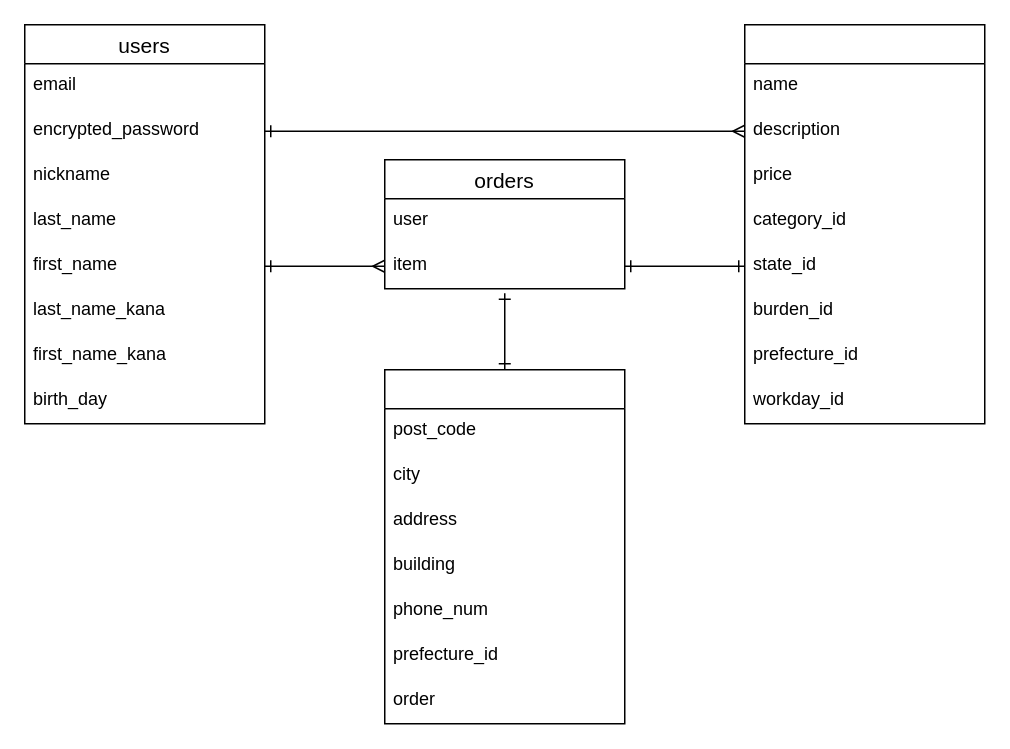
The diagram is 1010 pixels wide and 749 high, and some of its shapes have lost their labels. Each missing label, with the box of its shape:
addresses: (383, 368, 625, 724)
items: (743, 23, 985, 424)
